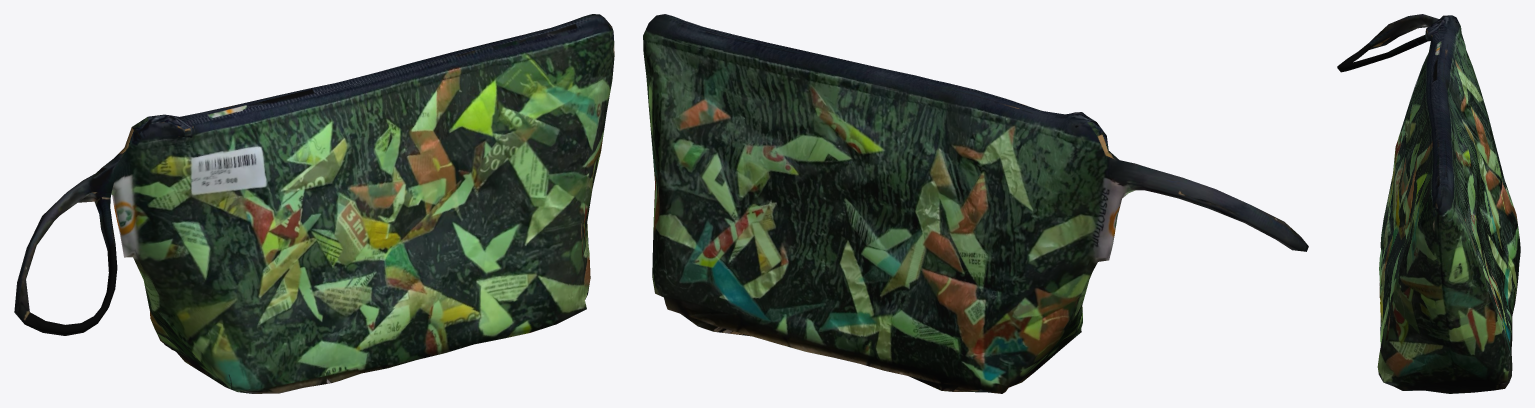
The model's file is SASBOTRAM_Tempat_Pensil_Hijau.glb.
3 renders of one model, left to right at view 1: azimuth 30°, elevation 25°; view 2: azimuth 150°, elevation 25°; view 3: azimuth 270°, elevation 25°, orthographic. The views are drawn at different scales.
Parts seen in each view (by area): view 1: Tempat pensil hijau - Ver AR; view 2: Tempat pensil hijau - Ver AR; view 3: Tempat pensil hijau - Ver AR.
Boxes of the visible parts, x1=… form: Tempat pensil hijau - Ver AR: x1=14, y1=14, x2=614, y2=393; Tempat pensil hijau - Ver AR: x1=643, y1=14, x2=1308, y2=393; Tempat pensil hijau - Ver AR: x1=1337, y1=14, x2=1520, y2=393.
Bounding box in the file's own units: 1.18 × 0.493 × 0.3624.
Materials: 1 (1 with a texture image).
